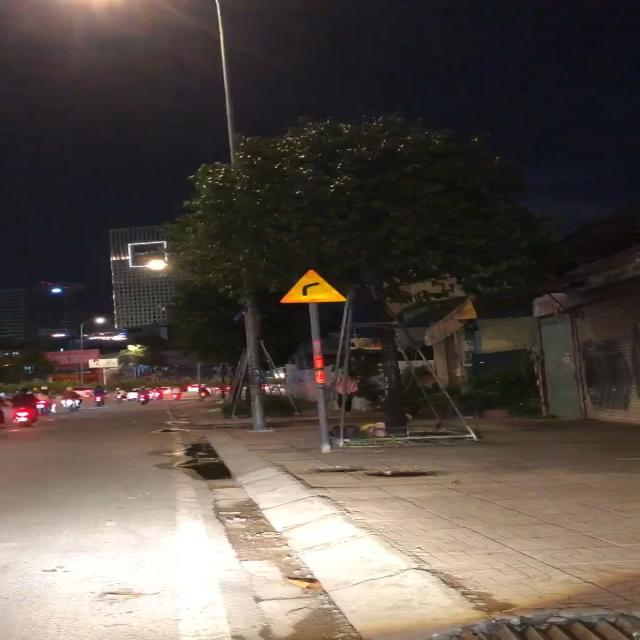Bien bao cho ngoat nguy hiem: (275, 262, 347, 307)
